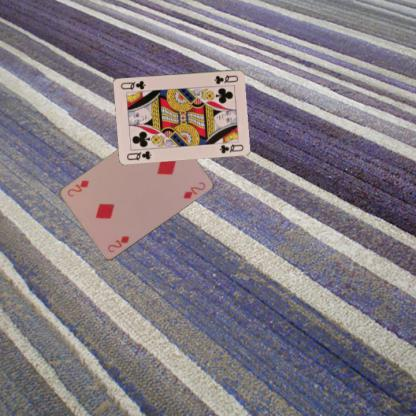2d: (104, 234, 130, 254)
Qc: (124, 148, 153, 161), (212, 72, 239, 85)
